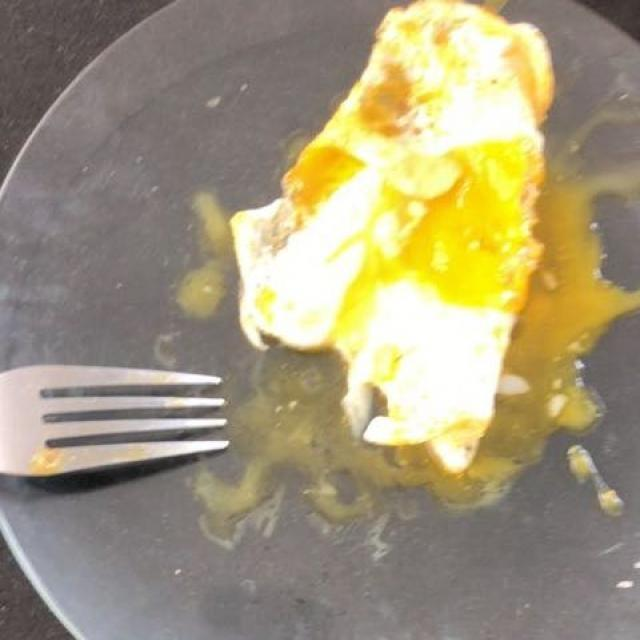egg: (217, 11, 628, 561)
